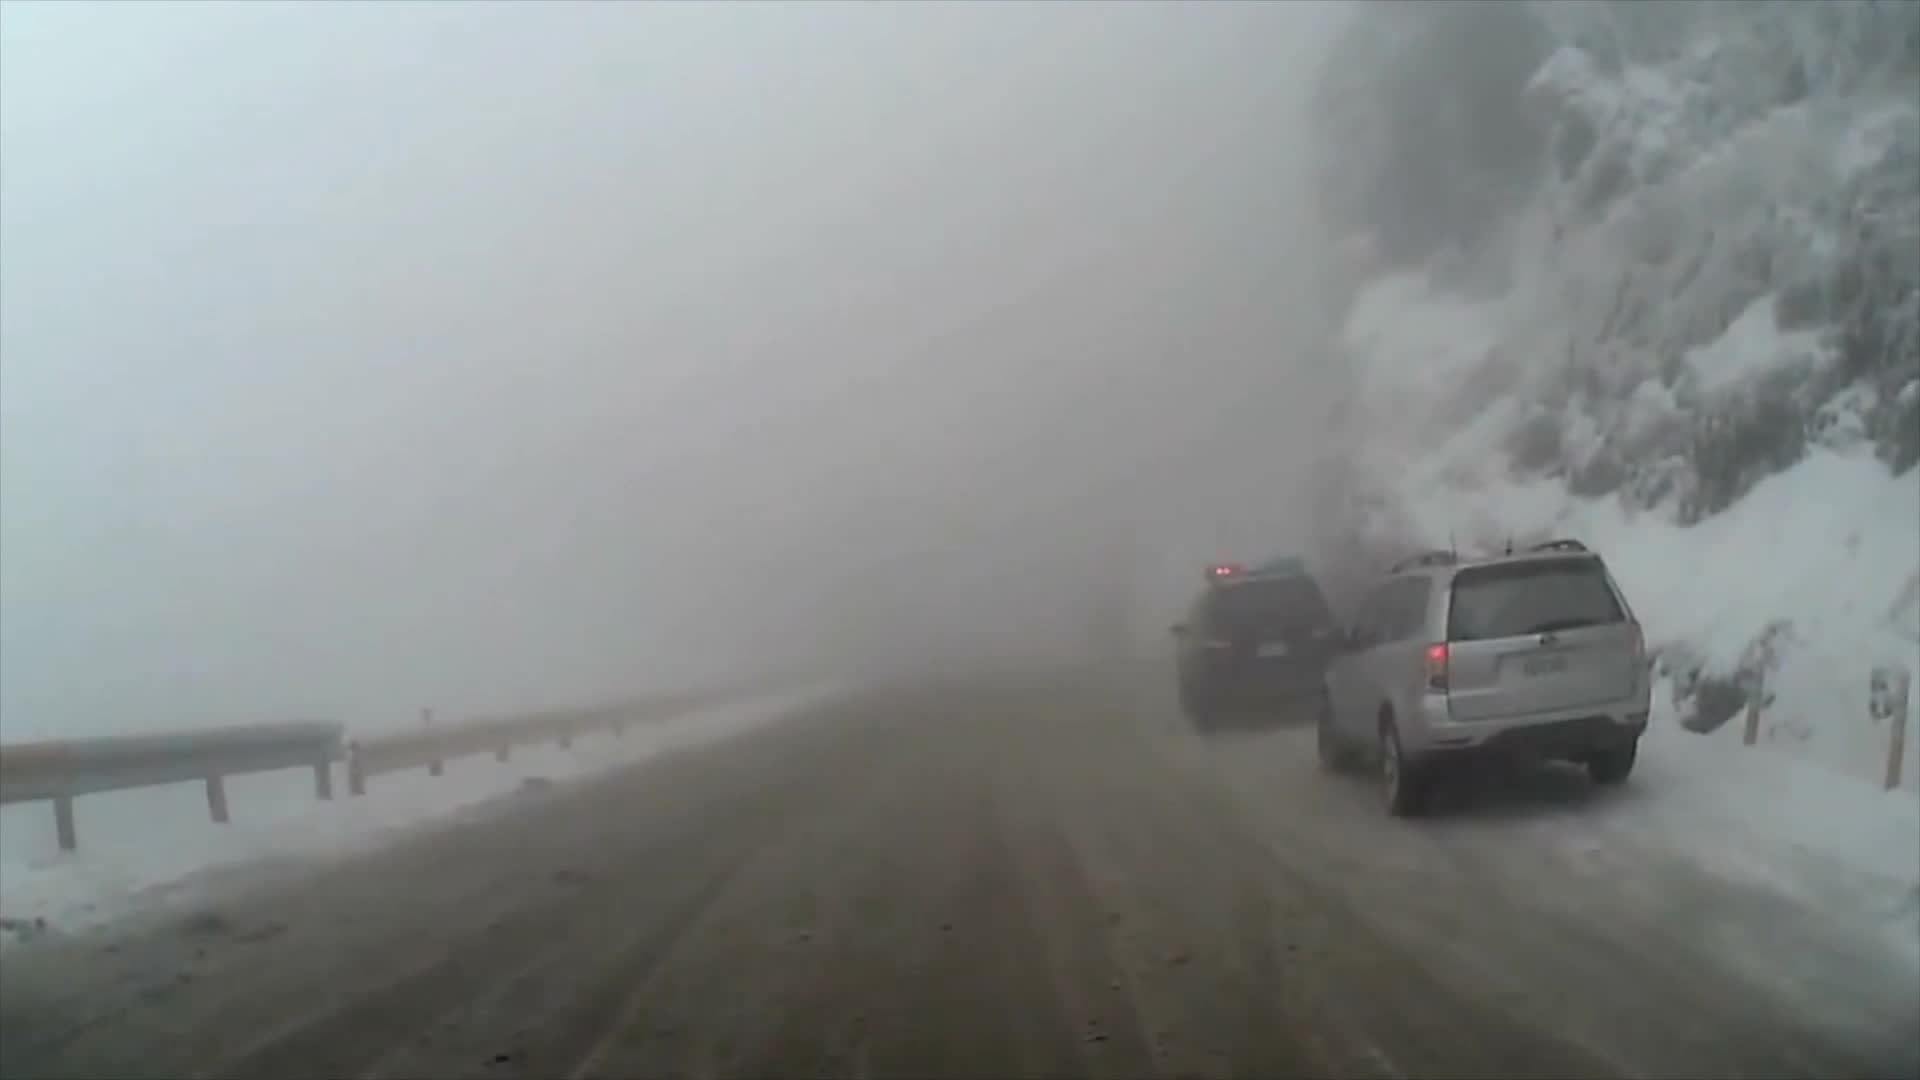vehicle: (1315, 535, 1654, 820), (1167, 550, 1346, 729)
